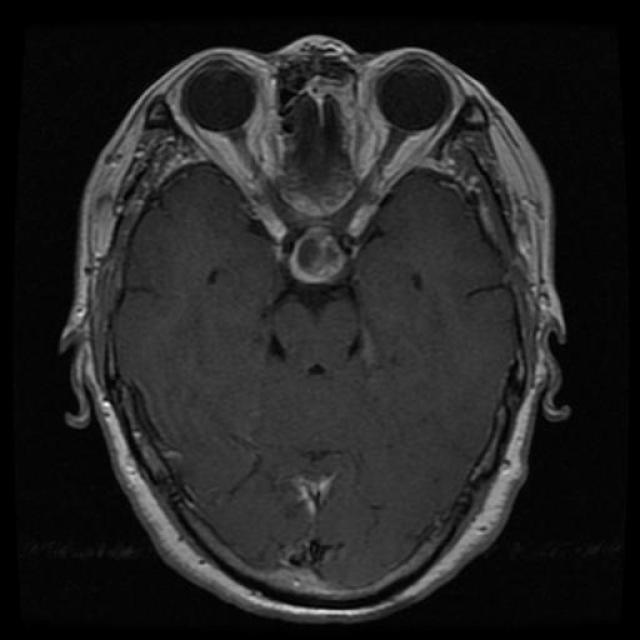pituitary: (252, 175, 371, 325)
